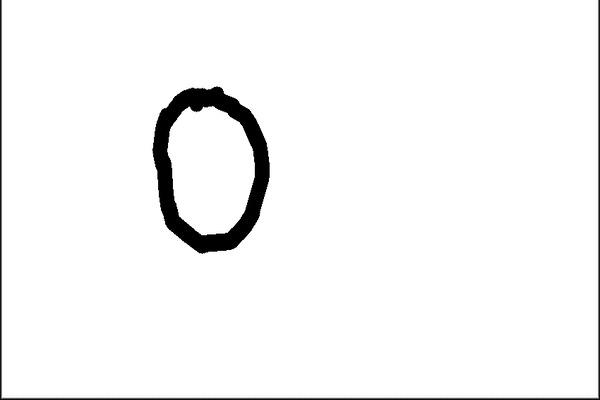O: (123, 75, 293, 263)
